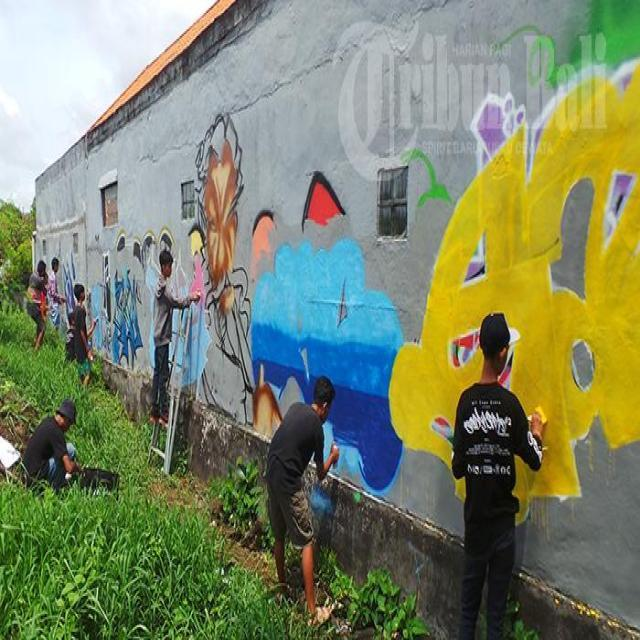-: (392, 0, 640, 515), (61, 104, 250, 418), (252, 169, 402, 497)
